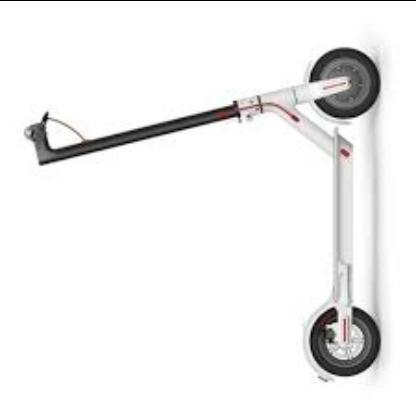bike: (12, 45, 383, 404), (23, 47, 382, 168)
